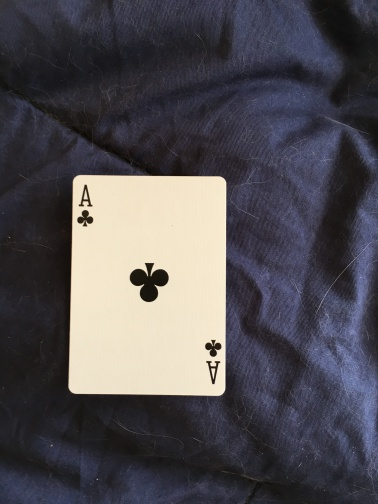ace: (69, 172, 229, 398)
